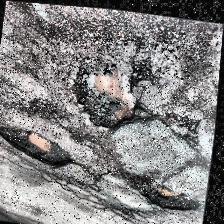pothole: (77, 62, 150, 130), (0, 120, 78, 170), (142, 178, 206, 212)
